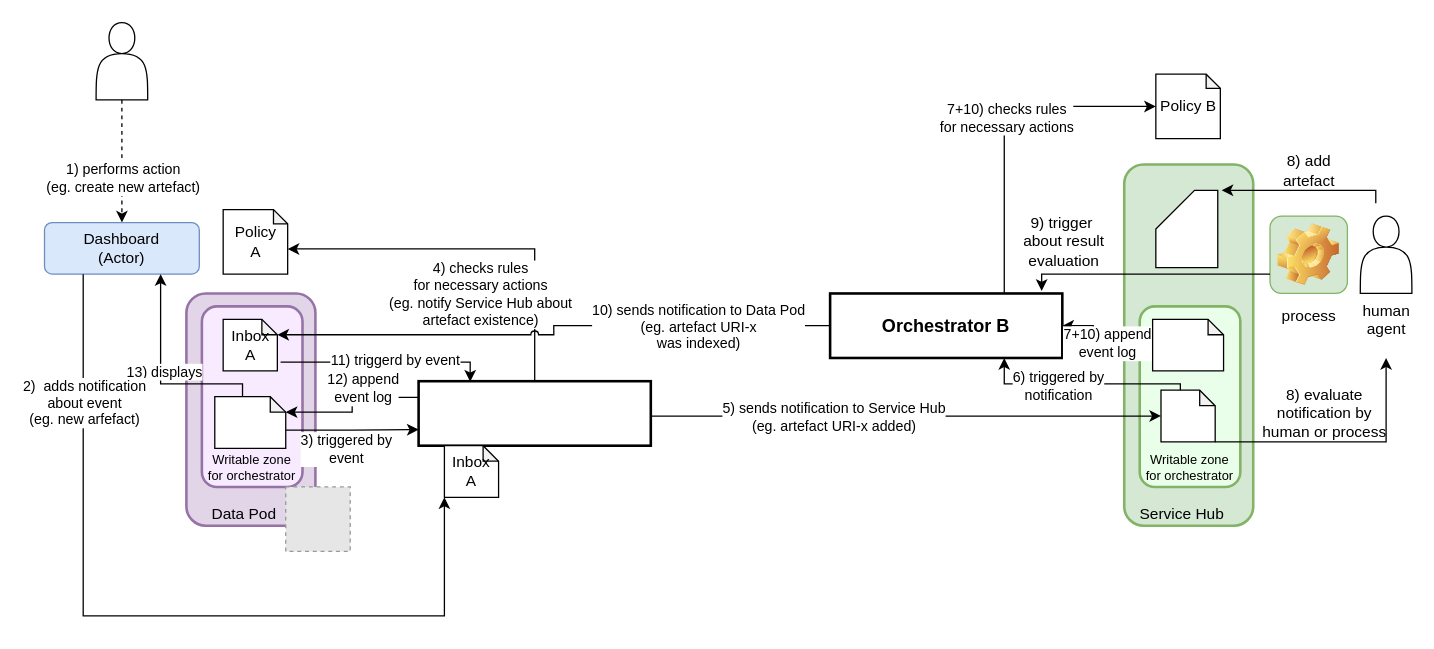
Some shapes in this 1434 by 649 pixel diagram are drawn without their labels. Grey dashed boxes stand in for pictures. Each missing label, with the centre of its shape:
artefact: the point at 1186,228
Event log A: the point at 249,421
Event log B: the point at 1187,344
Inbox B: the point at 1187,415
Maintainer (Human Agent): the point at 121,60
Orchestrator A: the point at 534,412
